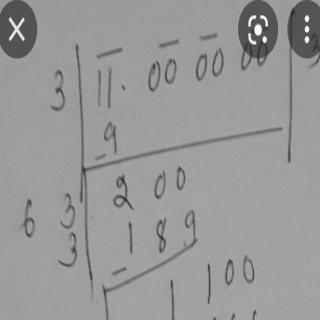.: (117, 80, 133, 95)
0: (147, 57, 162, 98), (241, 253, 257, 283), (210, 45, 225, 76), (176, 162, 191, 193), (164, 52, 177, 87), (197, 49, 209, 80)
1: (93, 66, 107, 109), (166, 277, 178, 320), (105, 65, 115, 114), (205, 262, 214, 307), (126, 220, 137, 254)
2: (114, 172, 136, 211)
3: (47, 68, 70, 117), (59, 187, 84, 229), (58, 230, 81, 268)
6: (21, 201, 41, 237)
8: (154, 214, 171, 254)
9: (180, 206, 199, 251), (101, 116, 120, 156)
